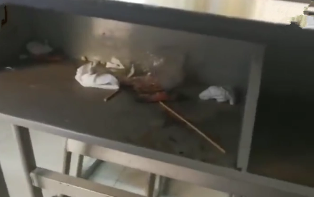garbage: (155, 96, 239, 158), (123, 53, 189, 101), (69, 56, 126, 93), (14, 36, 65, 68), (194, 83, 242, 106), (101, 83, 128, 108), (1, 59, 21, 83)
